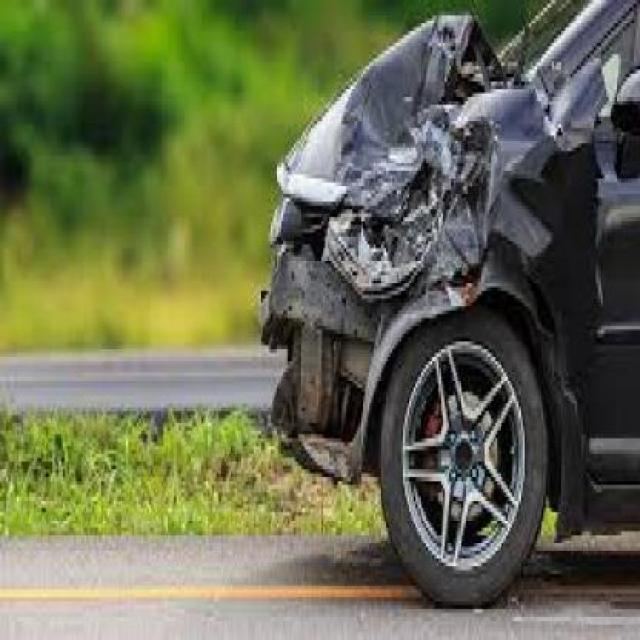accident: (255, 6, 640, 605)
